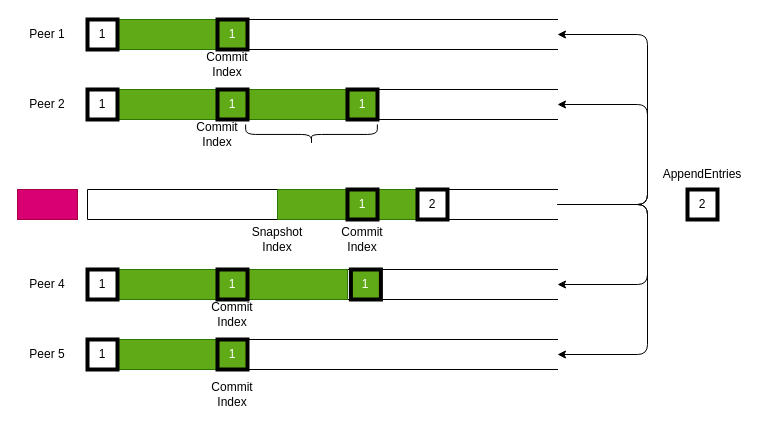
Image size: 759x426. Some labels were removed from this diagram. The shapes that lost their labels are listed below. From the top down, each one's box as (x1, y1, x2, y2) in pixels, then its label:
(245, 124, 377, 144): Replicated, but uncommitted logs
(16, 188, 78, 220): Leader 3
